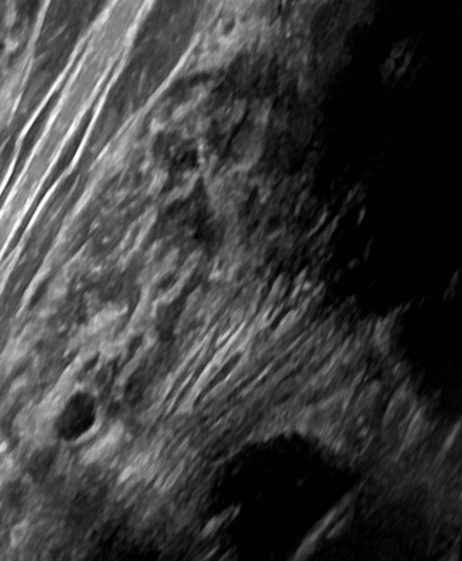Benign: (47, 390, 101, 447)
